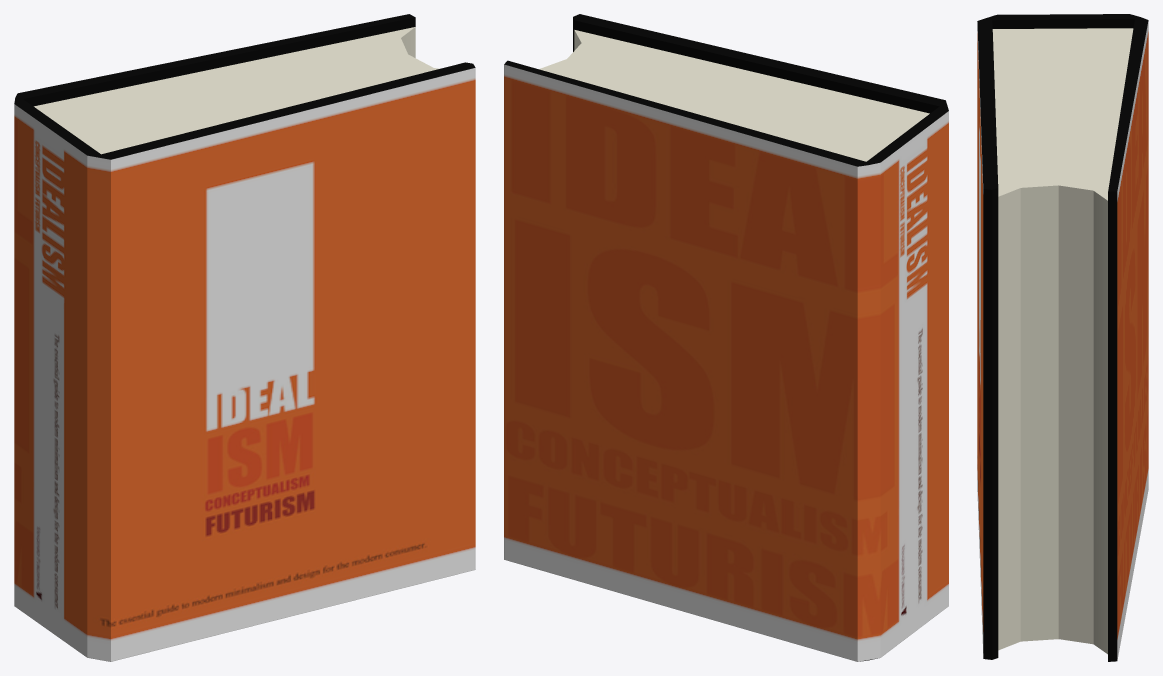
File: book.glb
3 views of the same model, side by side, from view 1: azimuth 30°, elevation 25°; view 2: azimuth 150°, elevation 25°; view 3: azimuth 270°, elevation 25° (orthographic). The views are drawn at different scales.
Visible parts, largest first — view 1: bok; view 2: bok; view 3: bok.
Boxes of the visible parts, bbox=[...] form: bok: bbox=[14, 14, 475, 661]; bok: bbox=[504, 14, 948, 661]; bok: bbox=[977, 14, 1148, 661].
Size of the model in its own units: 0.1897 by 0.2335 by 0.077.
2 materials, 1 textured.
